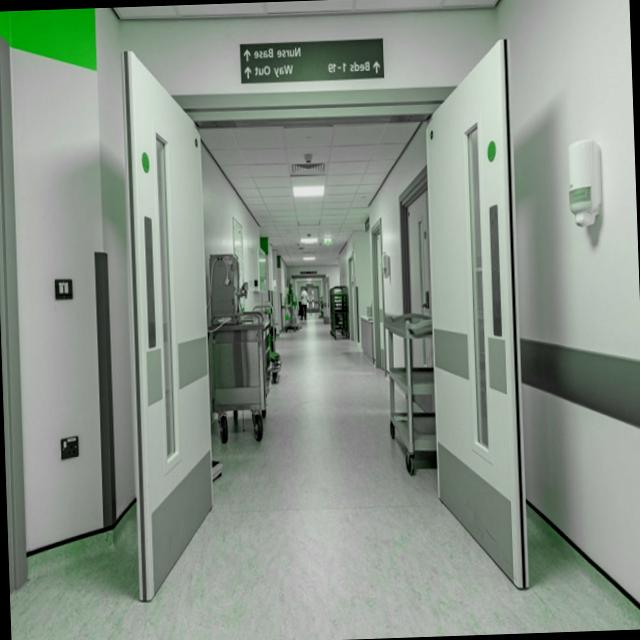door: (121, 37, 529, 602), (0, 36, 27, 593), (398, 166, 435, 420), (288, 273, 330, 326), (371, 218, 385, 373), (347, 252, 357, 346), (300, 286, 320, 312)
